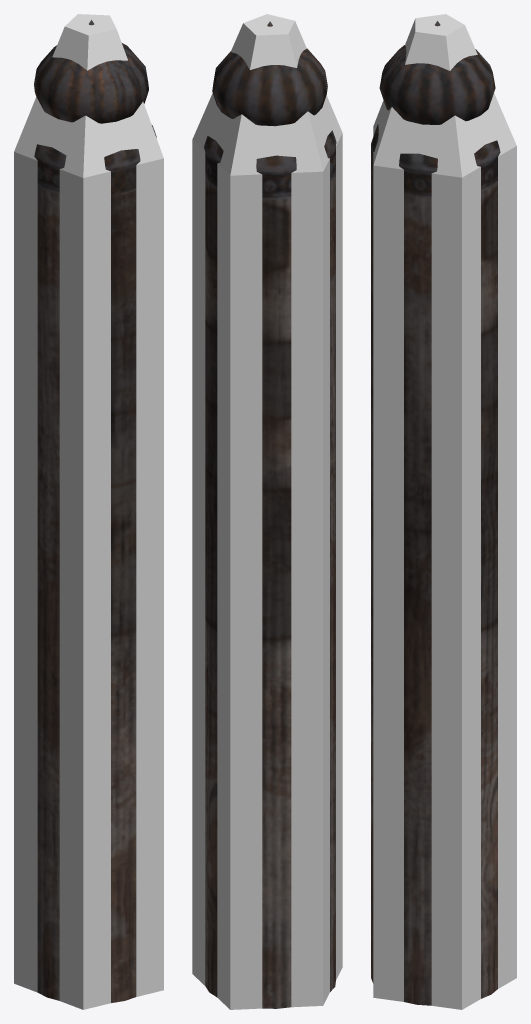
The model's file is JD_Bridge_A_Pole_01.fbx.
3 views of the same model, side by side, from view 1: azimuth 30°, elevation 25°; view 2: azimuth 150°, elevation 25°; view 3: azimuth 270°, elevation 25° (orthographic).
Visible parts, largest first — view 1: C_JD_Bridge_A_Pole_01, JD_Bridge_A_Pole_01; view 2: C_JD_Bridge_A_Pole_01, JD_Bridge_A_Pole_01; view 3: C_JD_Bridge_A_Pole_01, JD_Bridge_A_Pole_01.
Part boxes in pixels (x1,y1,x2,y2): C_JD_Bridge_A_Pole_01: [14, 14, 163, 1009]; JD_Bridge_A_Pole_01: [34, 20, 156, 1002]; C_JD_Bridge_A_Pole_01: [192, 14, 342, 1009]; JD_Bridge_A_Pole_01: [204, 21, 336, 1008]; C_JD_Bridge_A_Pole_01: [373, 14, 516, 1009]; JD_Bridge_A_Pole_01: [371, 21, 500, 1005].
Size of the model in its own units: 0.5423 by 3.8 by 0.5241.
